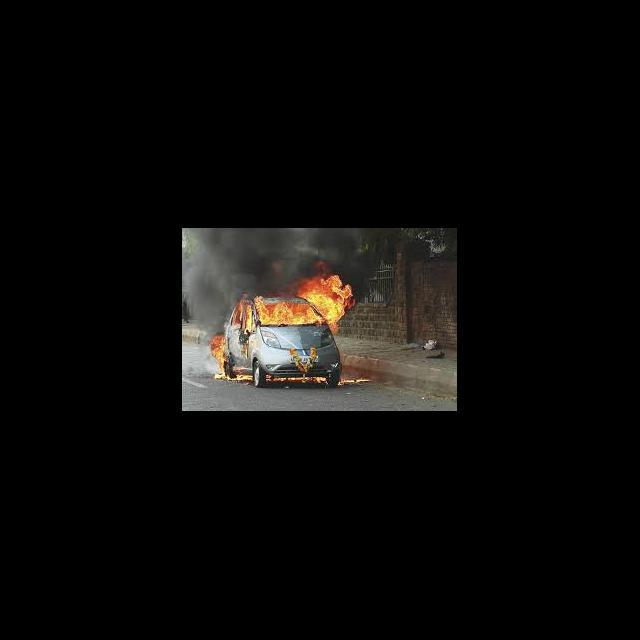Fire: (250, 272, 358, 332), (207, 336, 255, 384), (266, 376, 374, 389)
Smoke: (230, 230, 393, 269), (185, 231, 228, 324)
